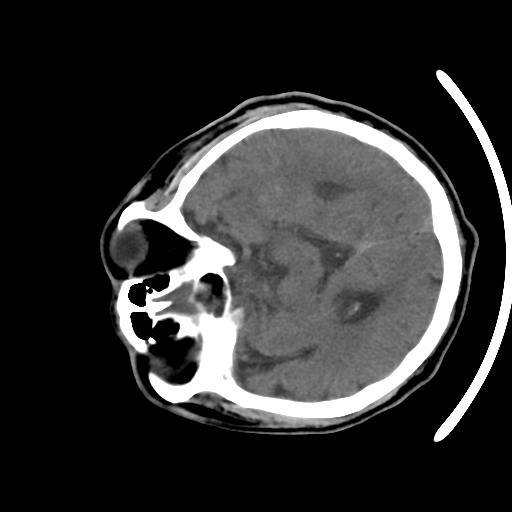a: (230, 150, 314, 226)
